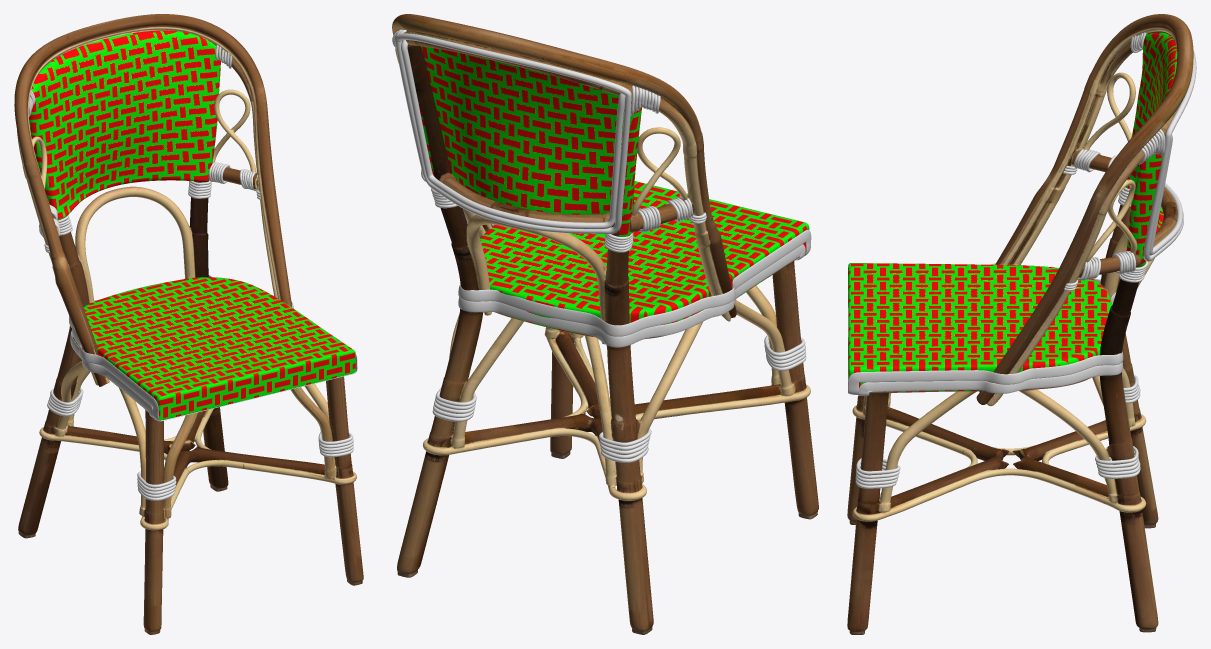
Rendered from ogive-damier.glb.
3 renders of one model, left to right at view 1: azimuth 30°, elevation 25°; view 2: azimuth 150°, elevation 25°; view 3: azimuth 270°, elevation 25°, orthographic. The views are drawn at different scales.
Parts seen in each view (by area): view 1: mesh_tressage, mesh_structure, mesh_laniere; view 2: mesh_structure, mesh_tressage, mesh_laniere; view 3: mesh_structure, mesh_tressage, mesh_laniere.
Boxes of the visible parts, x1,y1,x2,y2 form: mesh_tressage: (29,30,355,420); mesh_structure: (14,14,363,634); mesh_laniere: (14,44,357,500); mesh_structure: (392,14,818,634); mesh_tressage: (416,46,809,334); mesh_laniere: (392,29,811,462); mesh_structure: (847,14,1193,634); mesh_tressage: (848,32,1177,391); mesh_laniere: (848,32,1196,488).
Size of the model in its own units: 0.481 by 0.9003 by 0.5384.
Materials: 2 (2 with a texture image).
